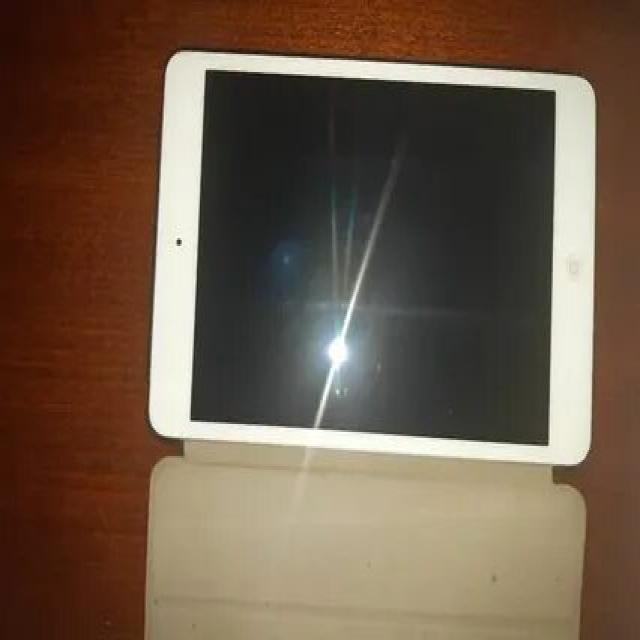phone good: (52, 30, 636, 473)
